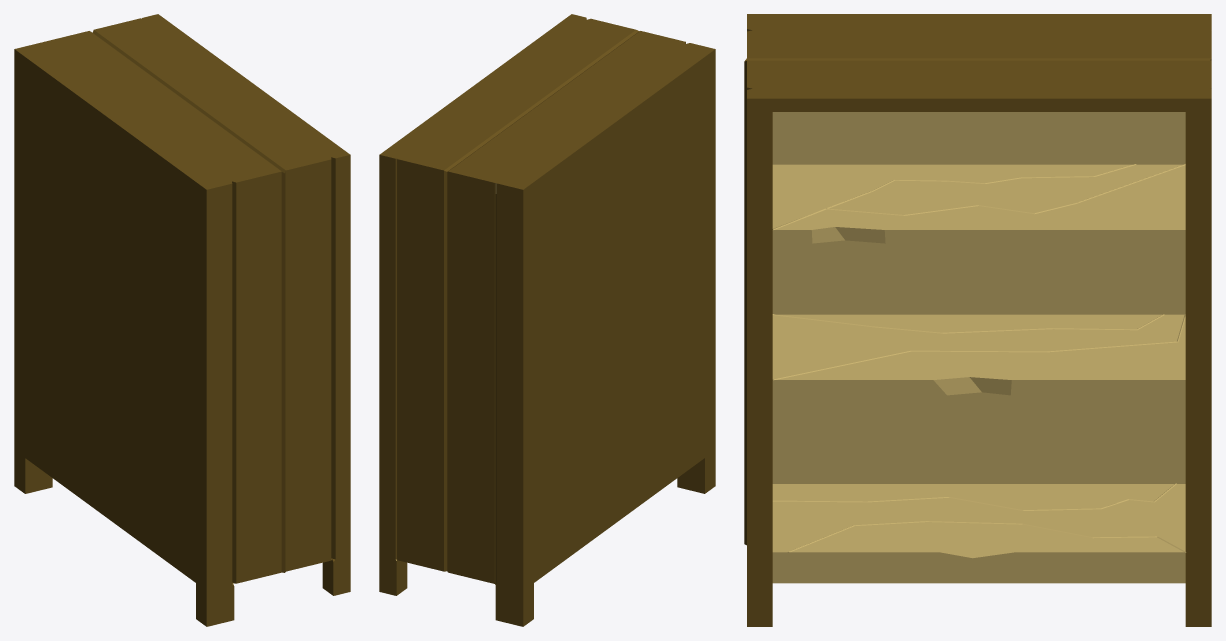
The model's file is Shelf.fbx.
3 renders of one model, left to right at view 1: azimuth 30°, elevation 25°; view 2: azimuth 150°, elevation 25°; view 3: azimuth 270°, elevation 25°, orthographic. The views are drawn at different scales.
Visible parts, largest first — view 1: Cube; view 2: Cube; view 3: Cube.
Part boxes in pixels (left/top/right/bottom): Cube: left=14, top=14, right=350, bottom=626; Cube: left=379, top=14, right=715, bottom=626; Cube: left=744, top=14, right=1211, bottom=626.
Size of the model in its own units: 123 by 359 by 288.
